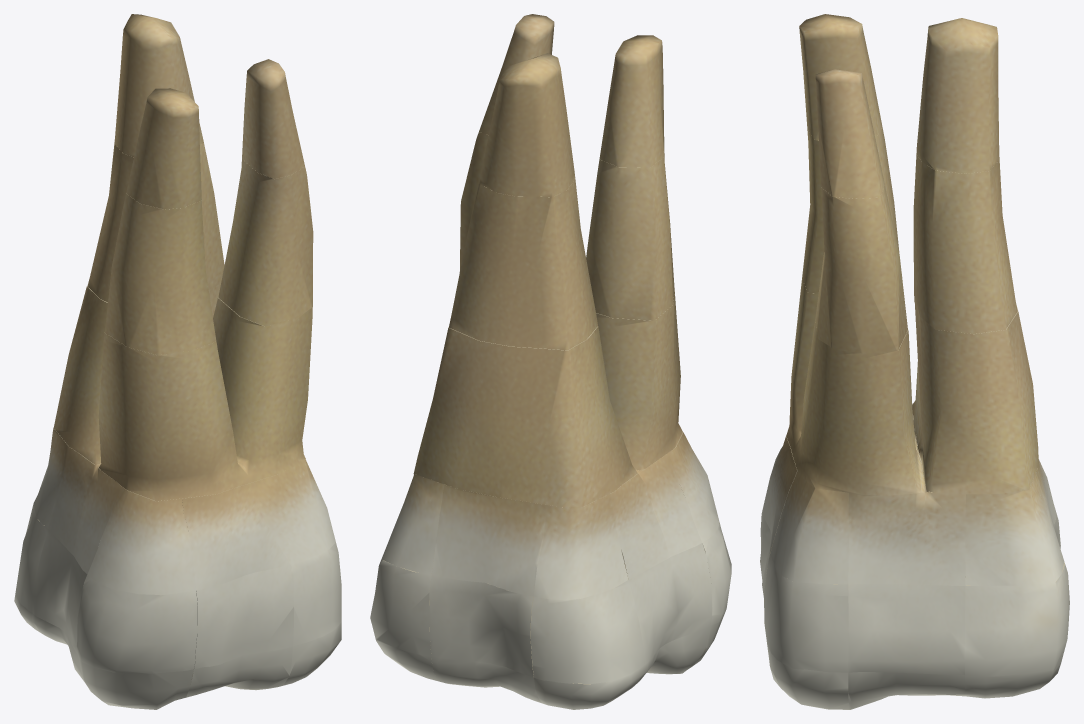
Rendered from Left_Upper_First_Molar.glb.
The picture shows the model from 3 angles, left to right: view 1: azimuth 30°, elevation 25°; view 2: azimuth 150°, elevation 25°; view 3: azimuth 270°, elevation 25°; orthographic projection. The views are drawn at different scales.
Parts seen in each view (by area): view 1: Human_Teeth_Upper_First_Molar_Geo.001; view 2: Human_Teeth_Upper_First_Molar_Geo.001; view 3: Human_Teeth_Upper_First_Molar_Geo.001.
Part boxes in pixels (bbox=[...]): Human_Teeth_Upper_First_Molar_Geo.001: bbox=[14, 14, 341, 709]; Human_Teeth_Upper_First_Molar_Geo.001: bbox=[370, 14, 731, 709]; Human_Teeth_Upper_First_Molar_Geo.001: bbox=[760, 14, 1069, 709].
Size of the model in its own units: 1.29 by 3.05 by 1.3.
Materials: 30 (30 with a texture image).
